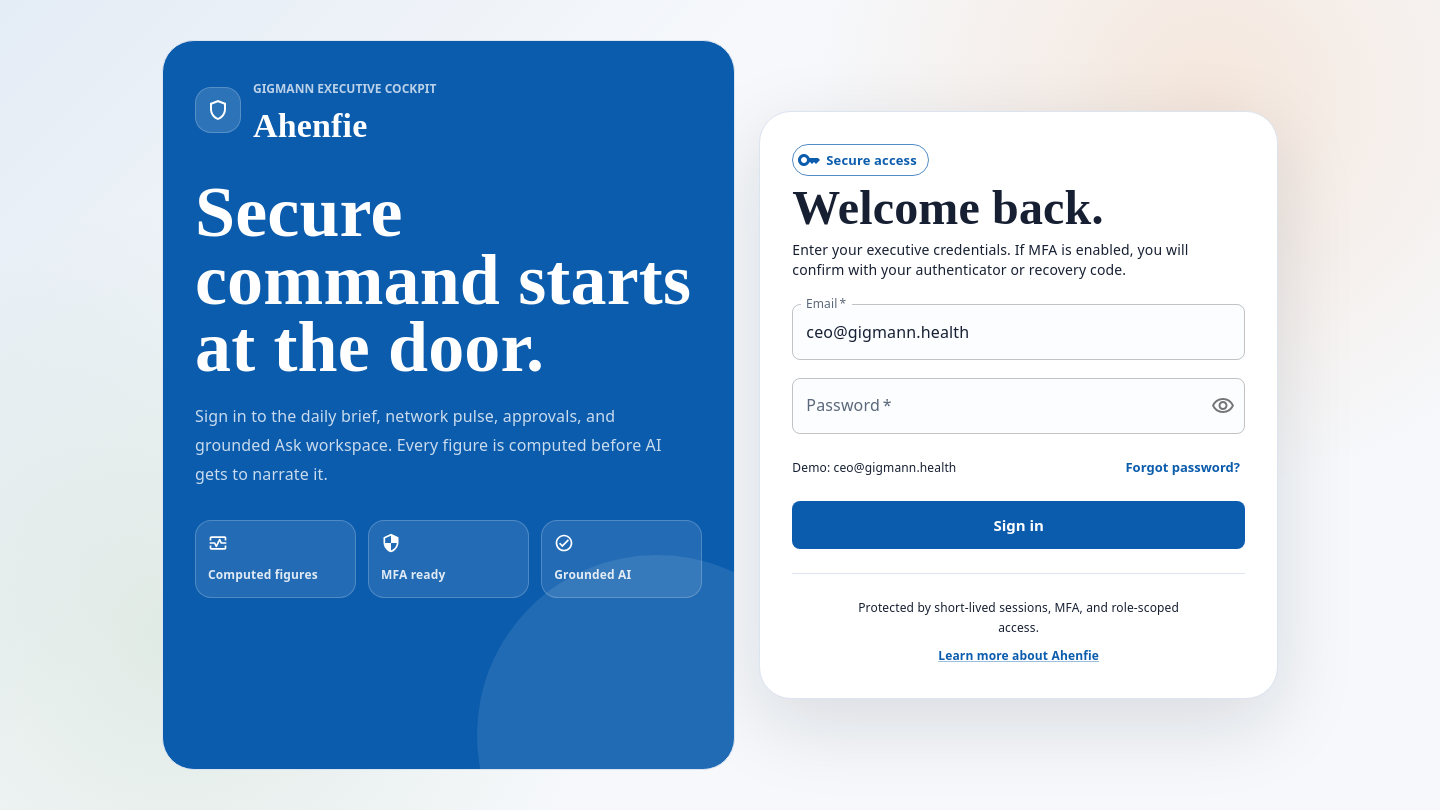
Scenario: AuthProvider › walks through the password reset flow
Click the button "Forgot password?".
click(1183, 468)  # box [1120,452,1245,483]
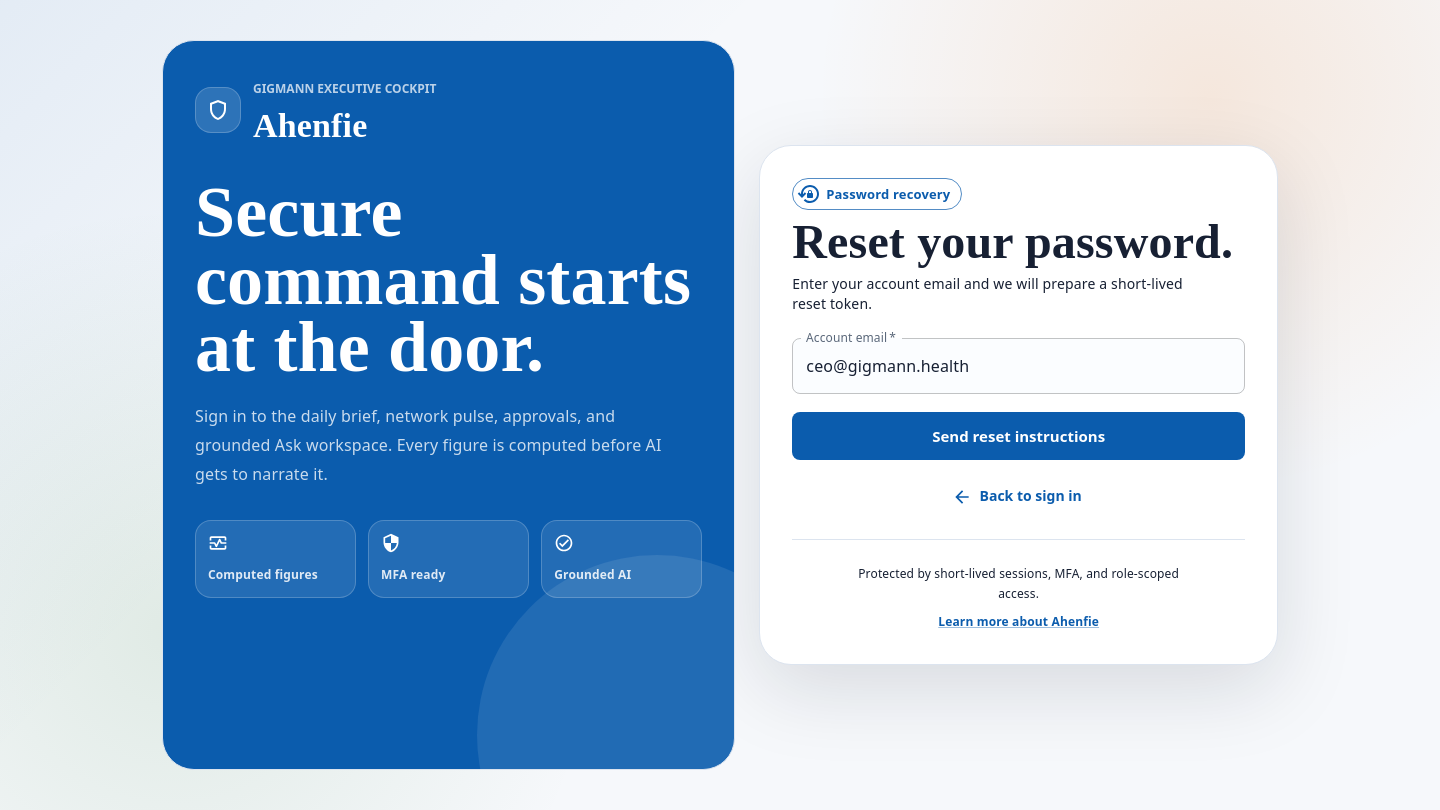
Click the button "Send reset instructions".
click(1019, 436)  # box [792,412,1245,460]
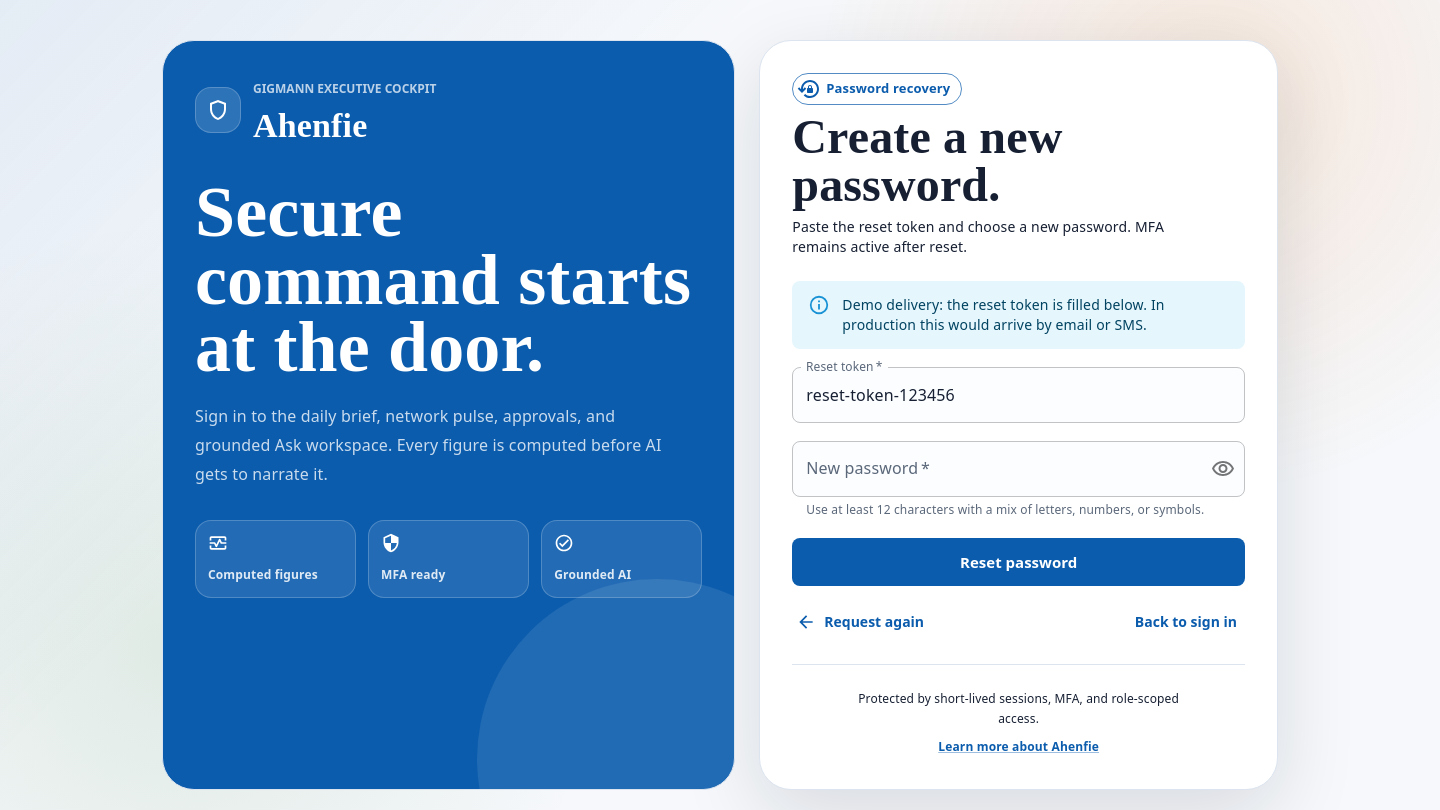
Expected: the field labelled "Reset token *" holds "reset-token-123456", [792,367,1245,423]
Click the button named "show new password".
click(1223, 469)  # box [1203,449,1243,489]
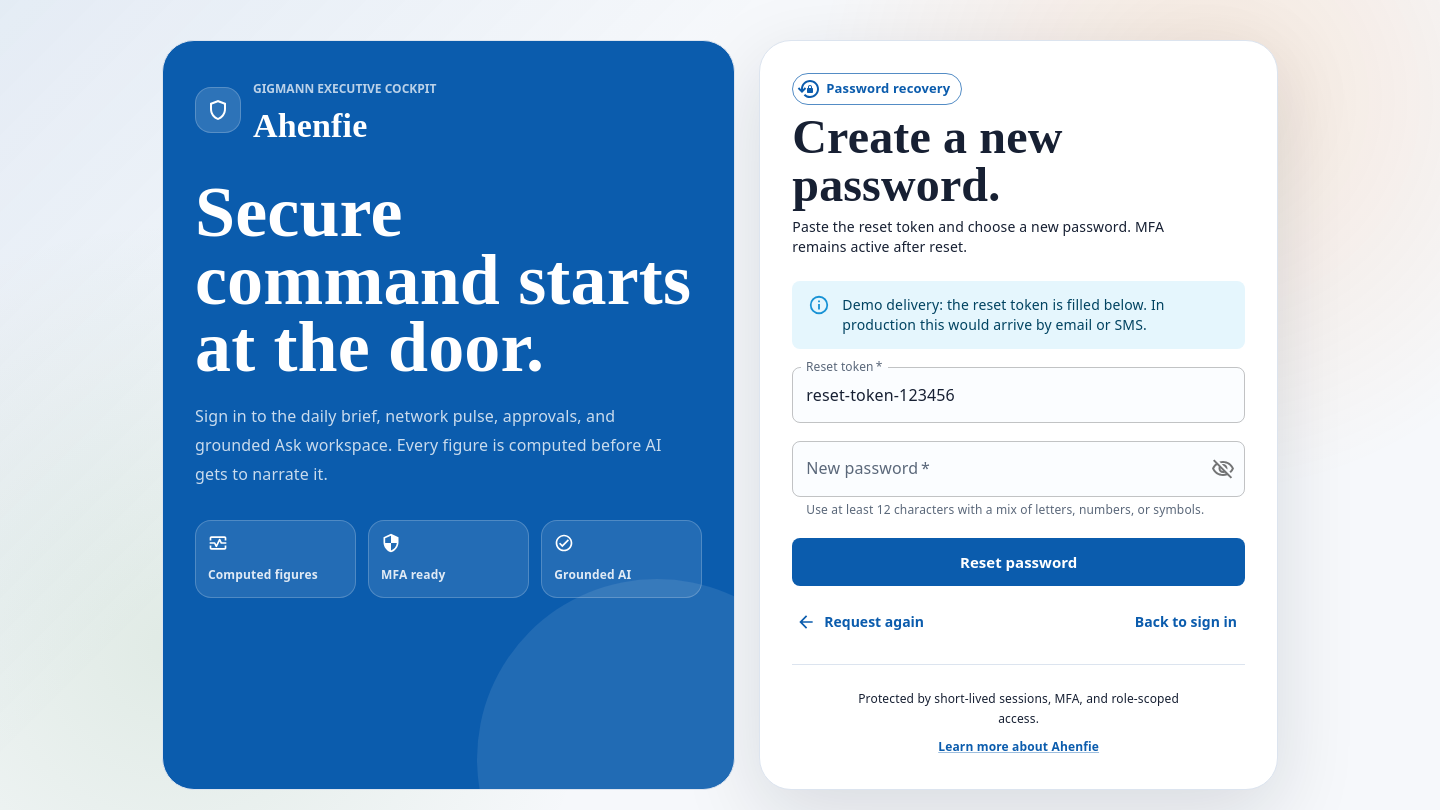
Type "new-password" into the field labelled "New password *".
click(994, 469); type("new-password")  # box [792,441,1195,497]
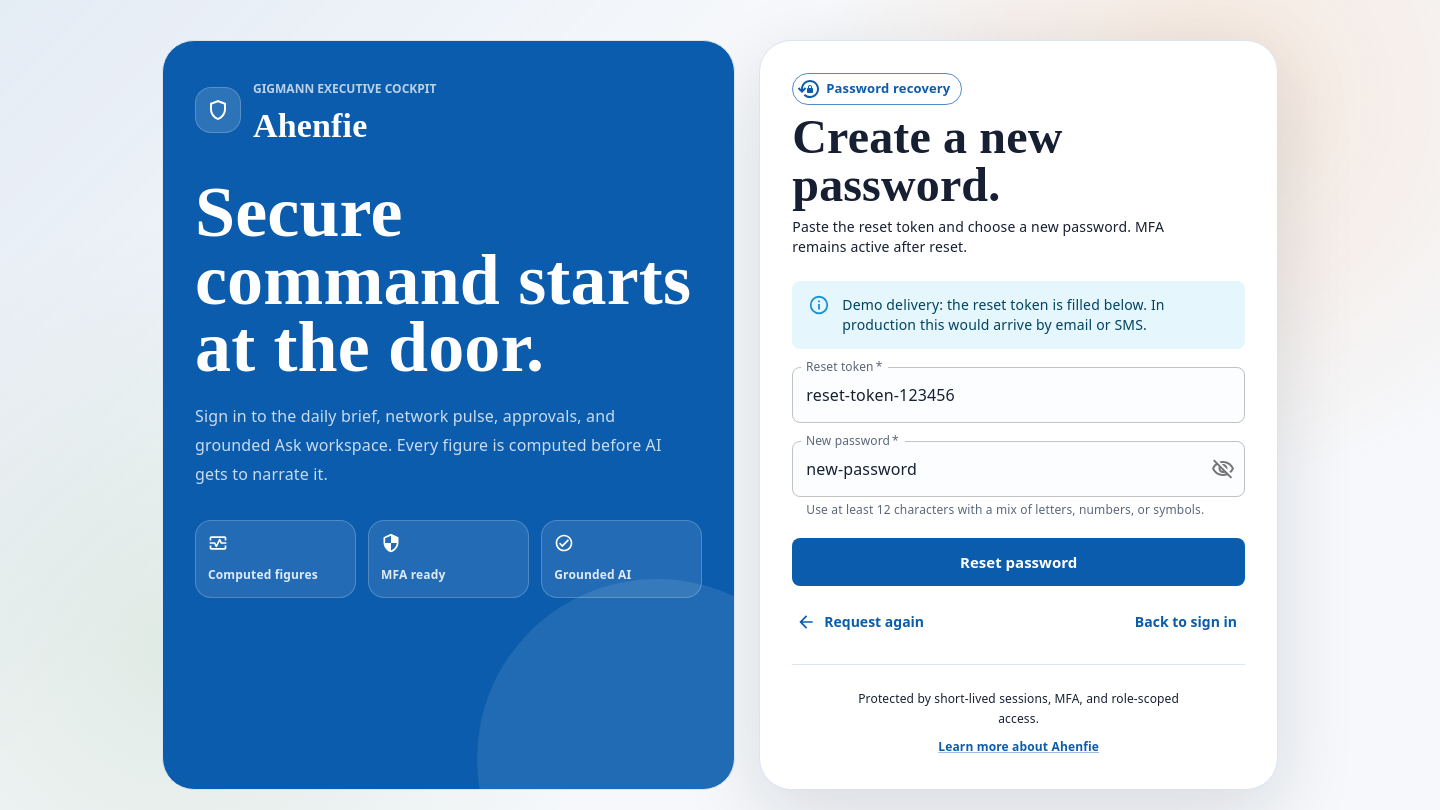
Click the button "Reset password".
click(1019, 562)  # box [792,538,1245,586]
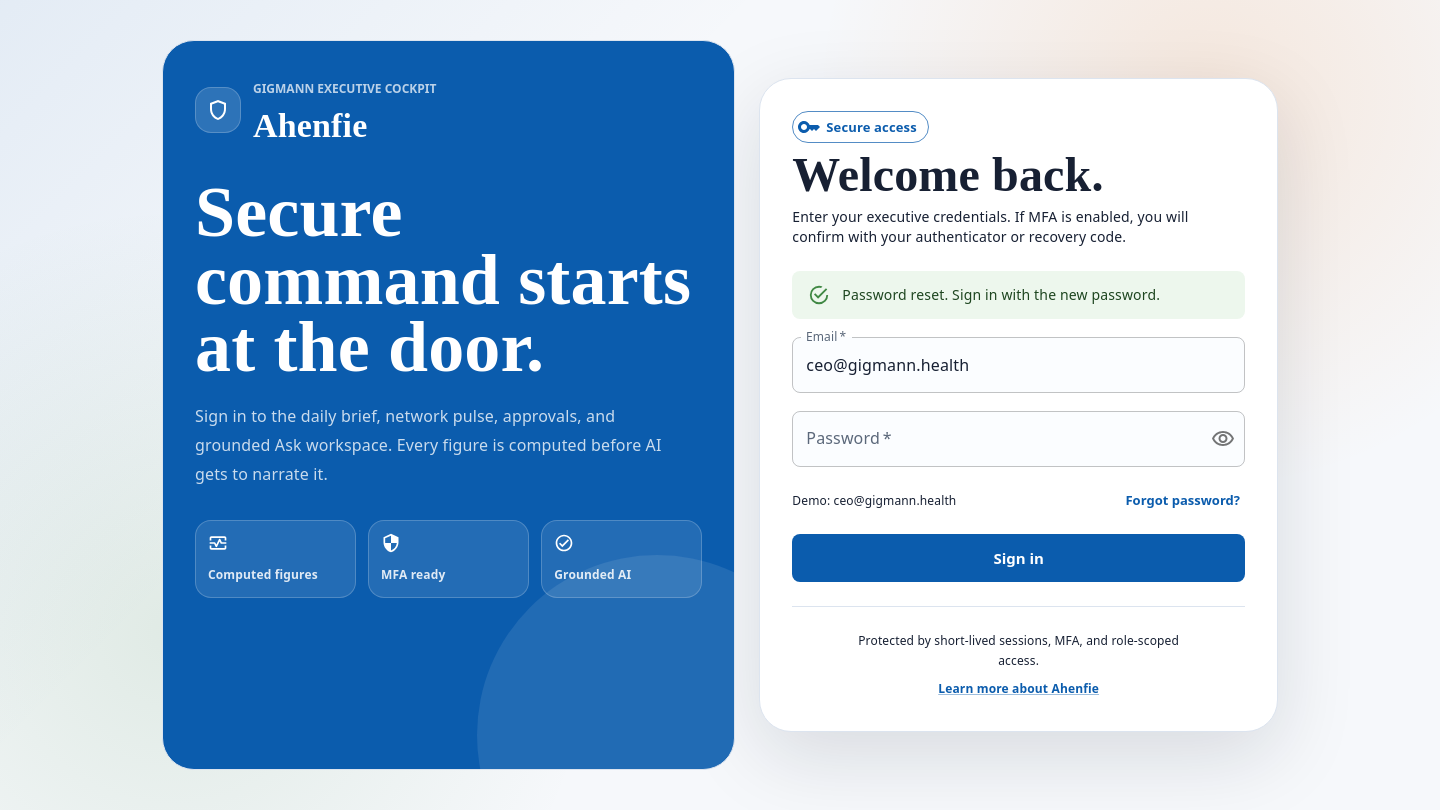
Expected: the text "Password reset. Sign in with the new password." is shown, [842,285,1160,304]
Expected: the button "Sign in" is shown, [792,534,1245,582]
